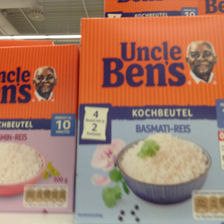rice: (76, 17, 222, 224), (1, 43, 79, 214)
